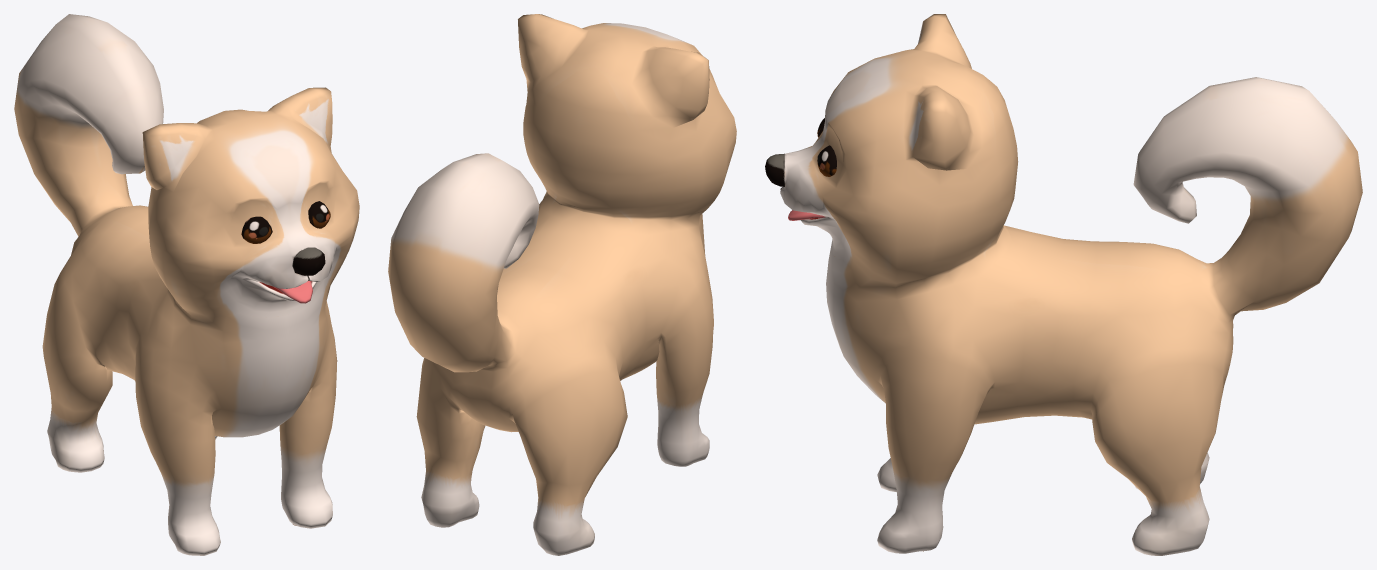
Rendered from dog (2).fbx.
3 views of the same model, side by side, from view 1: azimuth 30°, elevation 25°; view 2: azimuth 150°, elevation 25°; view 3: azimuth 270°, elevation 25° (orthographic). The views are drawn at different scales.
Visible parts, largest first — view 1: dog_body, eyes, tounge; view 2: dog_body; view 3: dog_body.
Part boxes in pixels (bbox=[...]): dog_body: bbox=[14, 14, 359, 555]; eyes: bbox=[241, 201, 330, 243]; tounge: bbox=[274, 281, 312, 303]; dog_body: bbox=[388, 14, 736, 555]; dog_body: bbox=[765, 14, 1362, 555].
Size of the model in its own units: 21.44 by 44.98 by 53.11.
